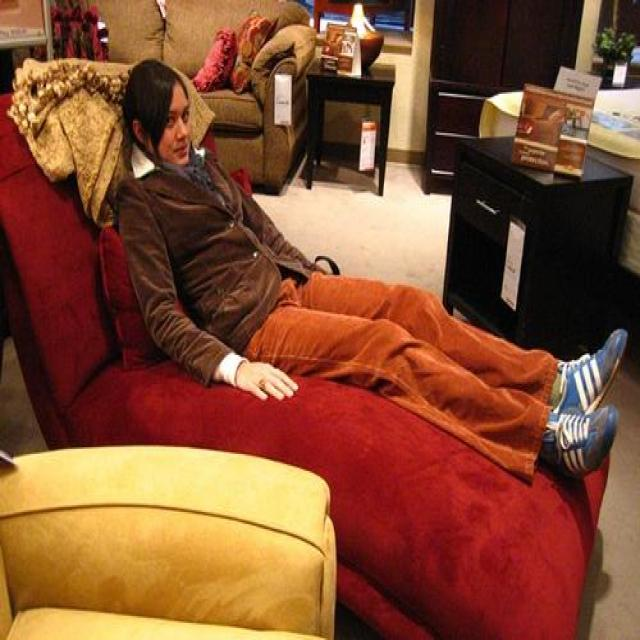No_Gloves: (226, 348, 298, 416)
